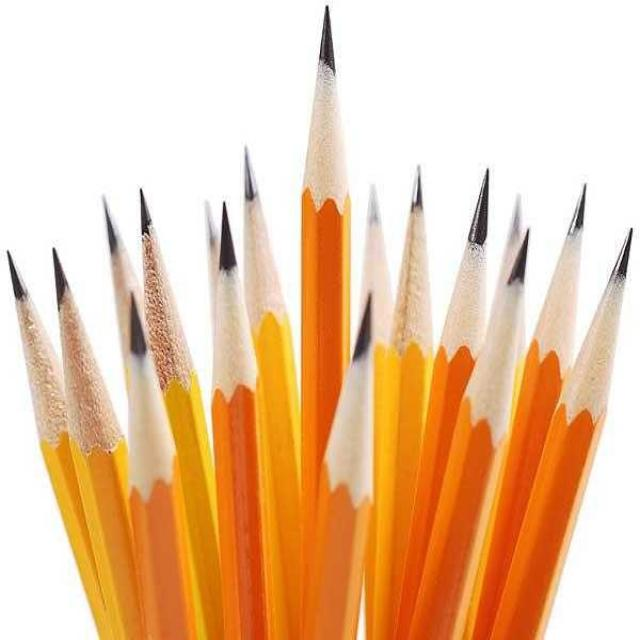pencil: (481, 177, 639, 639), (456, 156, 591, 639), (399, 205, 541, 639), (392, 155, 504, 639), (0, 237, 130, 639), (198, 173, 287, 639), (46, 227, 144, 639), (241, 126, 315, 639), (137, 165, 217, 639), (122, 276, 218, 639), (382, 137, 436, 639), (101, 193, 137, 373)
